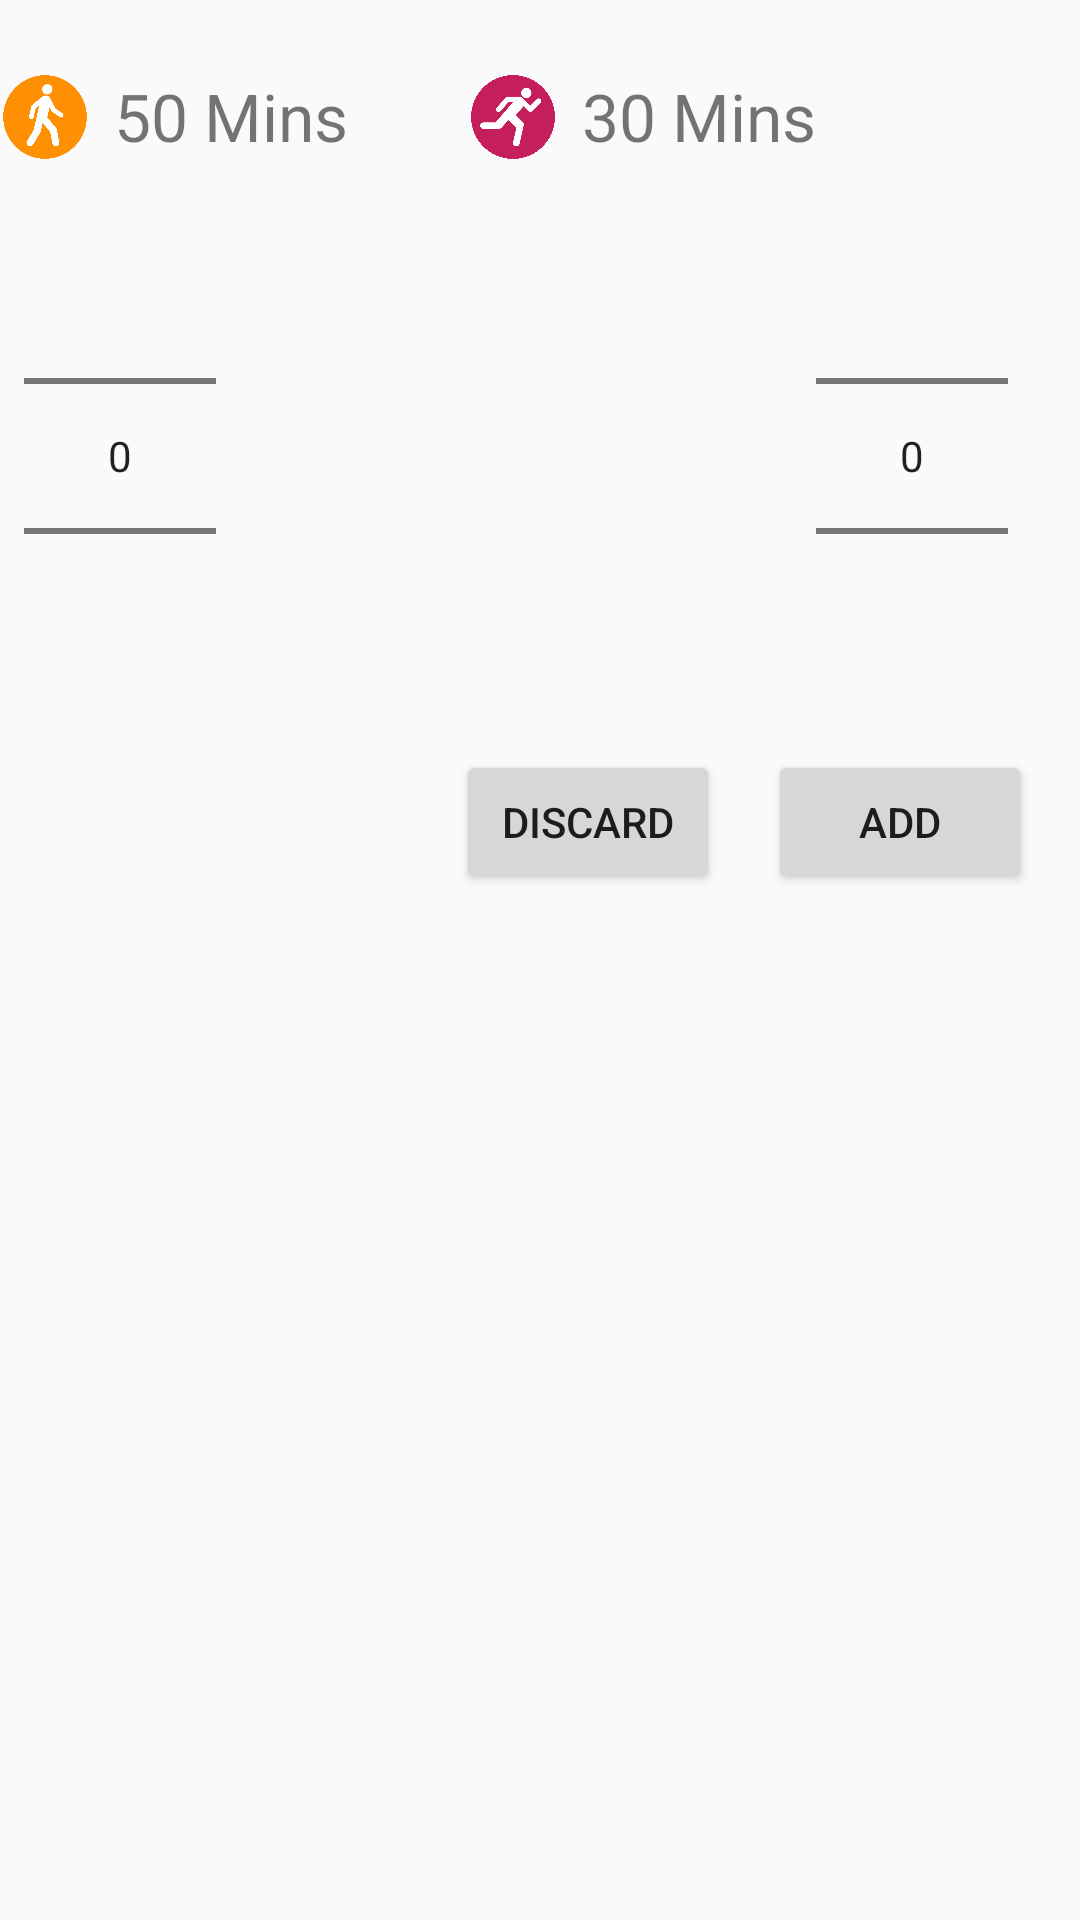

Icon click points for this 1080×1920 phone screenshot, format (x=x, y=y):
running: (x=513, y=117)
walking: (x=45, y=117)
